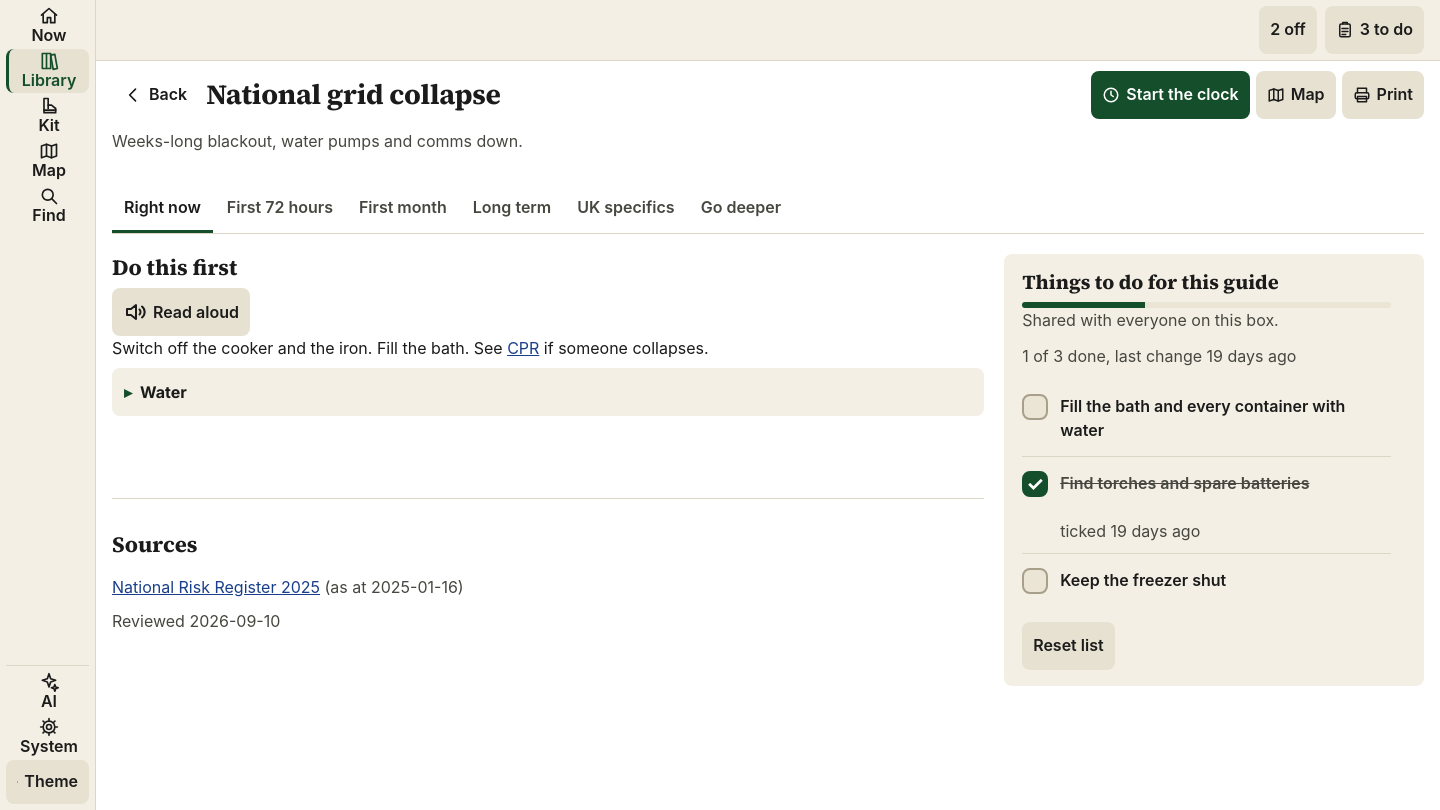
Test: Situation clock › asks before replacing another active situation and can end one
This screenshot has width=1440, height=810.
Click the button "Start the clock" at (1171, 95), box x1=1091 y1=71 x2=1250 y2=119
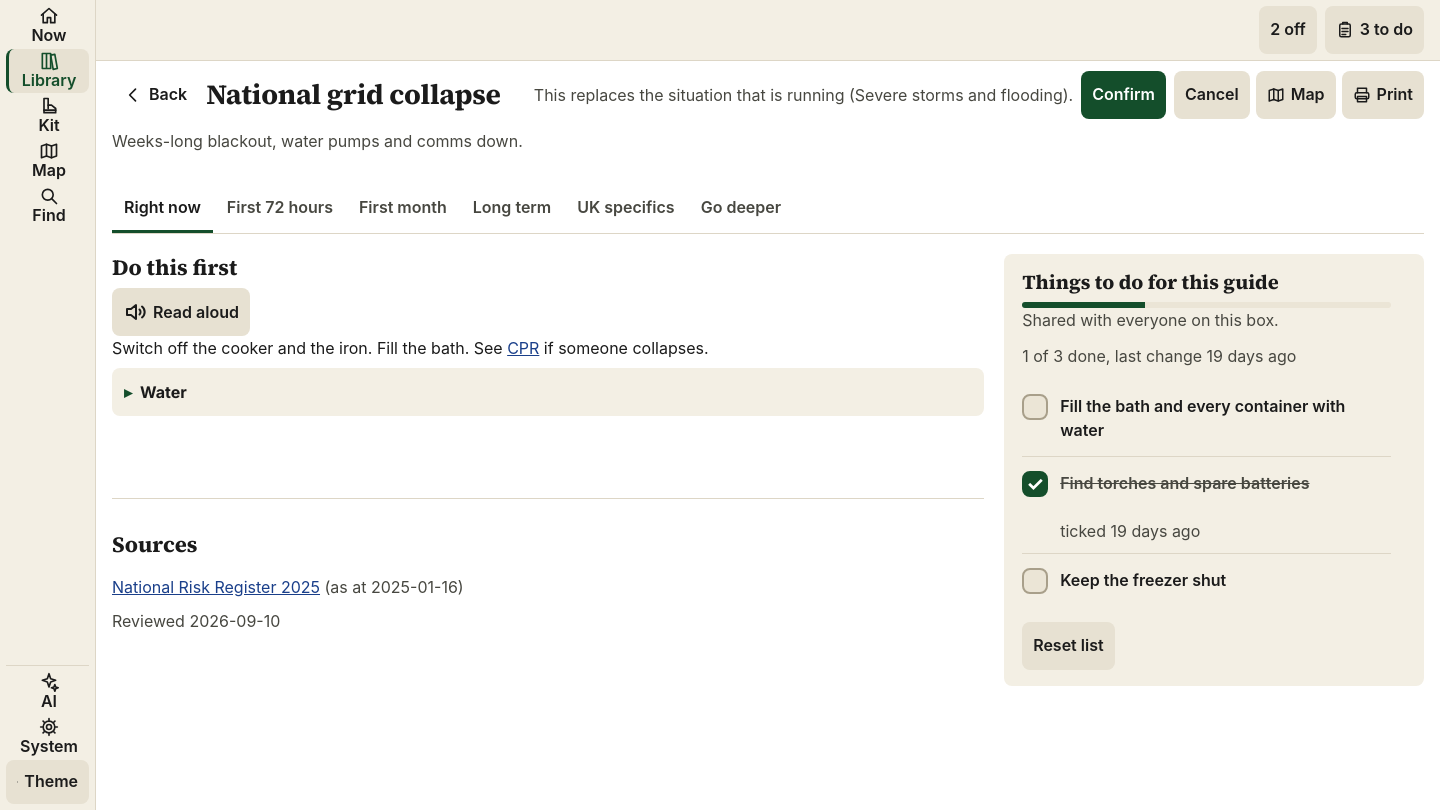
Result: the text "replaces the situation that is running (Severe storms and flooding)" is shown at x1=534 y1=83 x2=1073 y2=107
Click the button "Confirm" at (1124, 95), box x1=1081 y1=71 x2=1166 y2=119
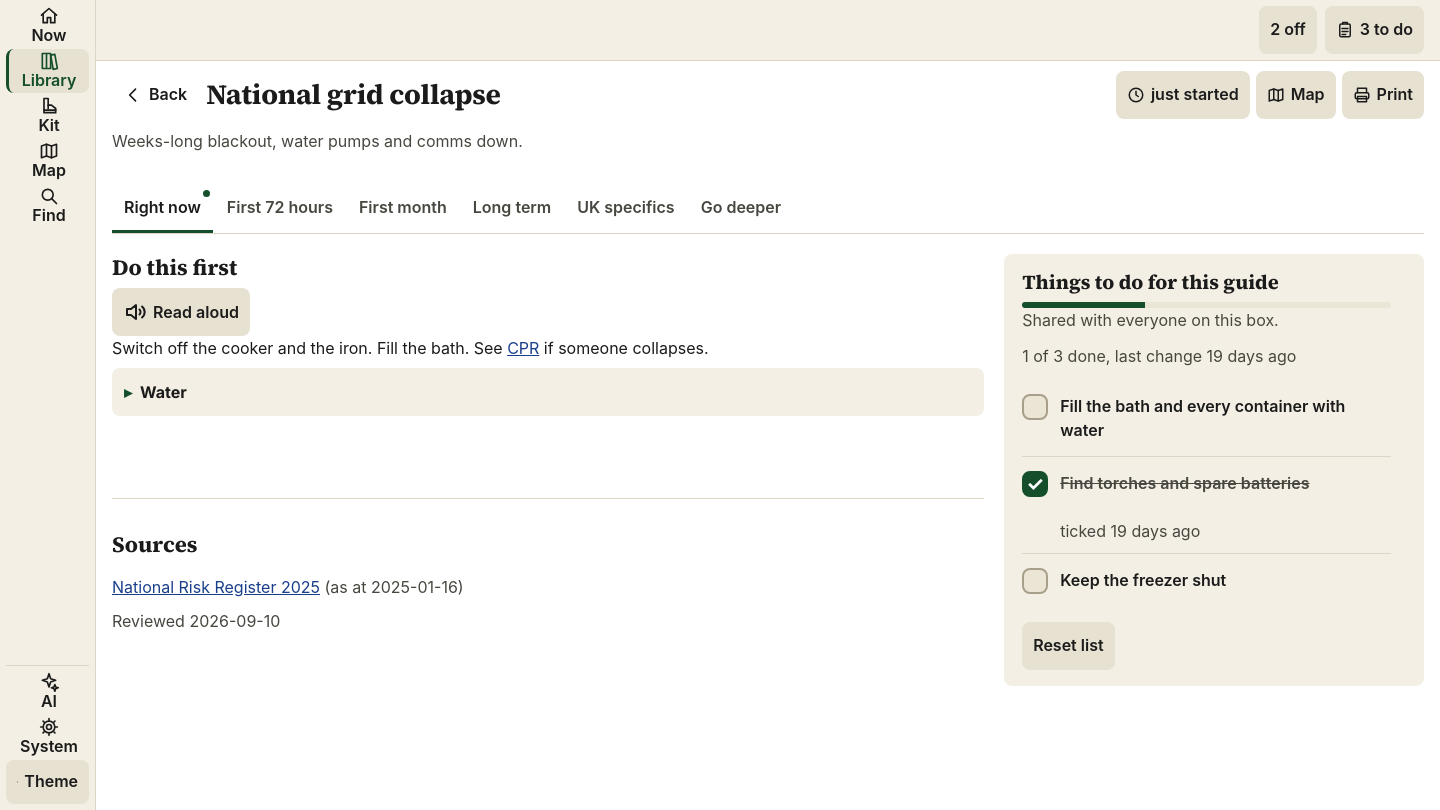
Click the button "just started" at (1183, 95), box x1=1116 y1=71 x2=1250 y2=119
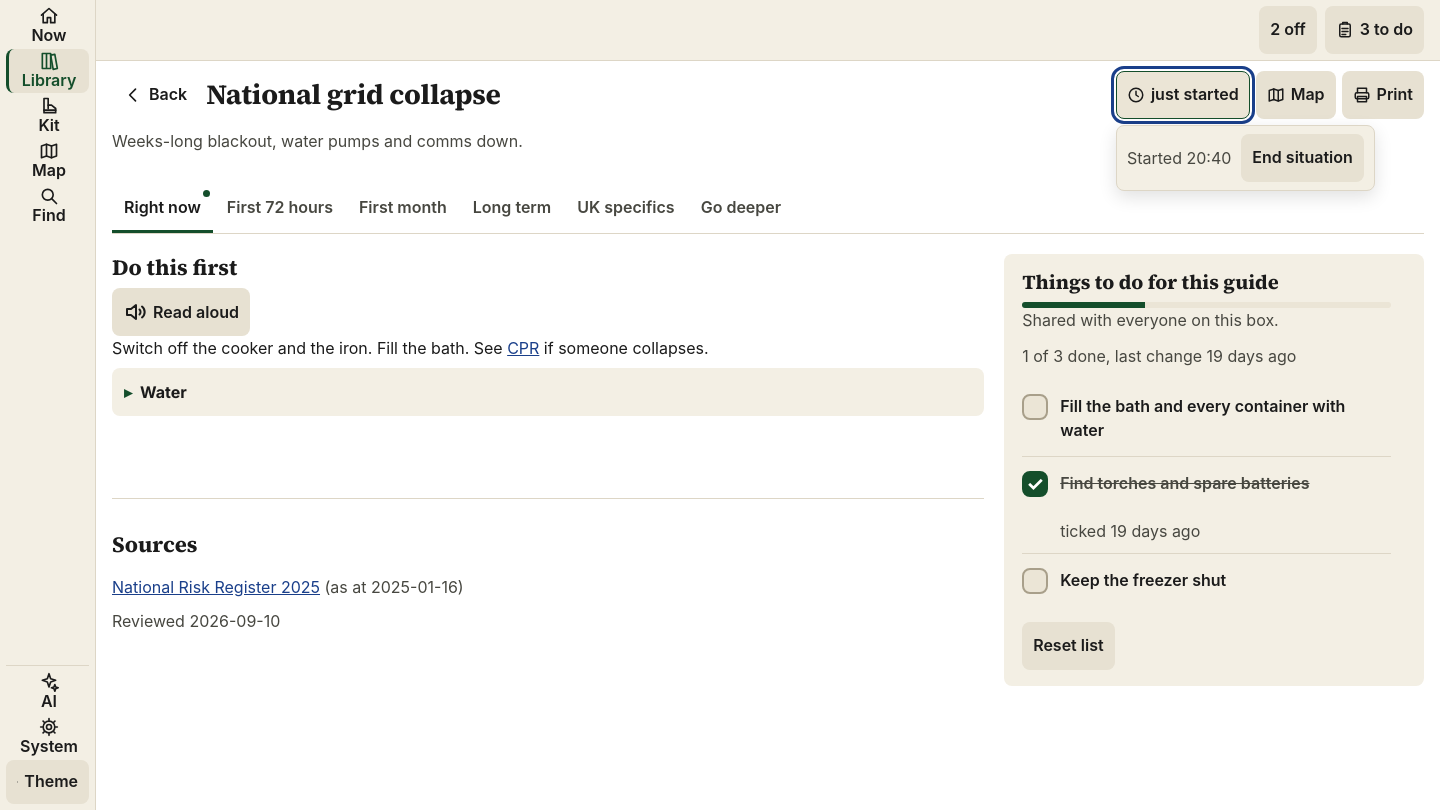
Click the button "End situation" at (1303, 158), box x1=1241 y1=134 x2=1364 y2=182
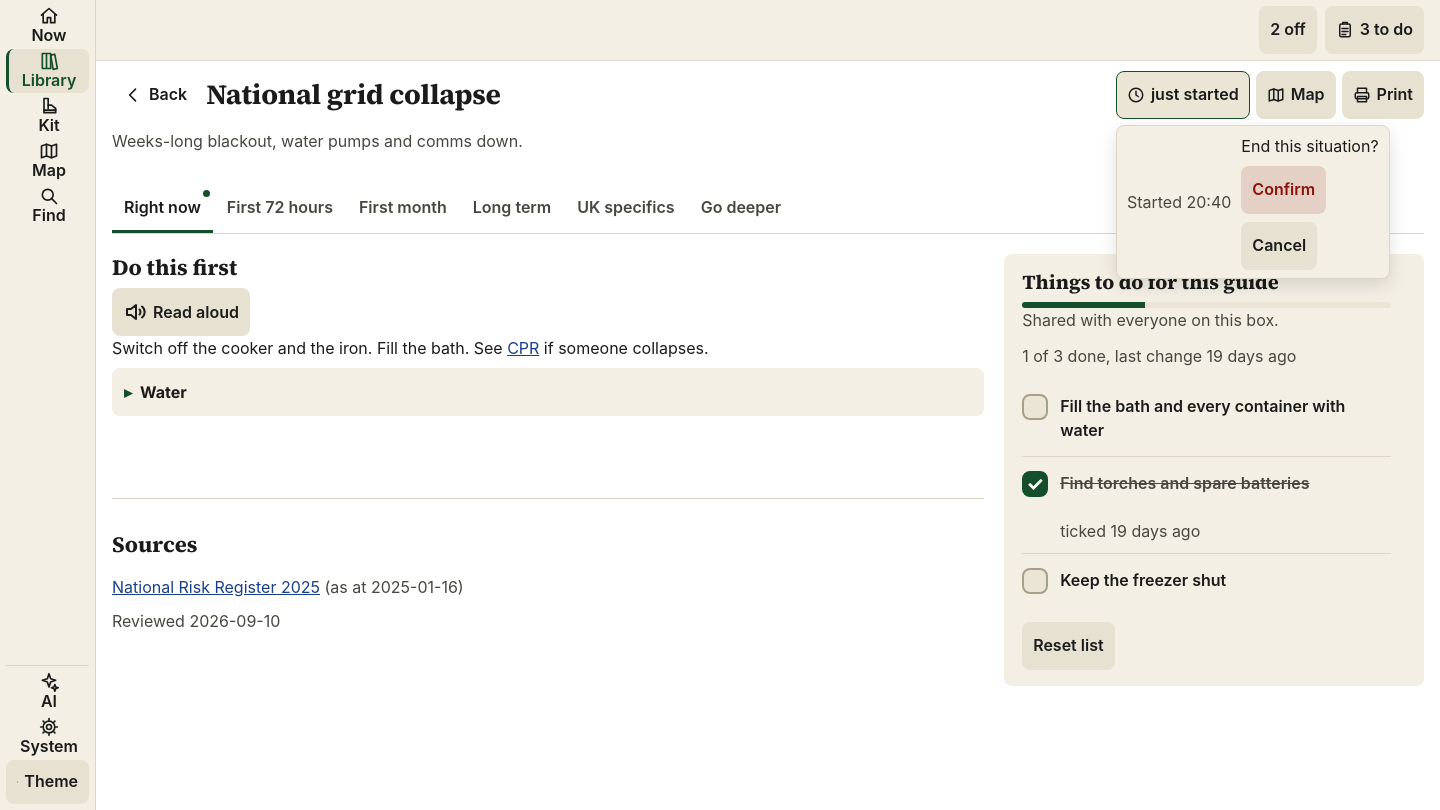
Click the button "Confirm" at (1284, 190), box x1=1241 y1=166 x2=1326 y2=214
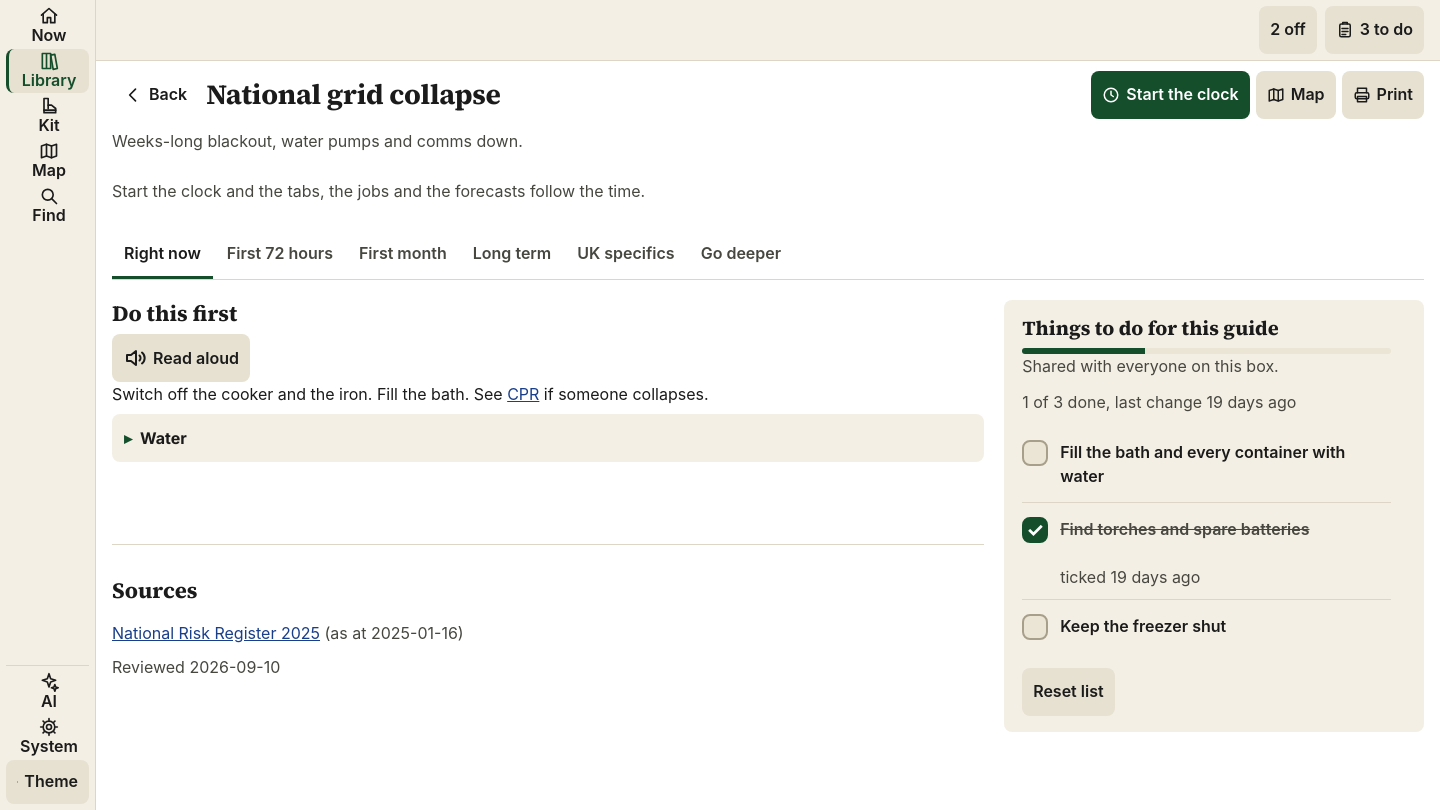
Result: the button "Start the clock" is shown at x1=1091 y1=71 x2=1250 y2=119
